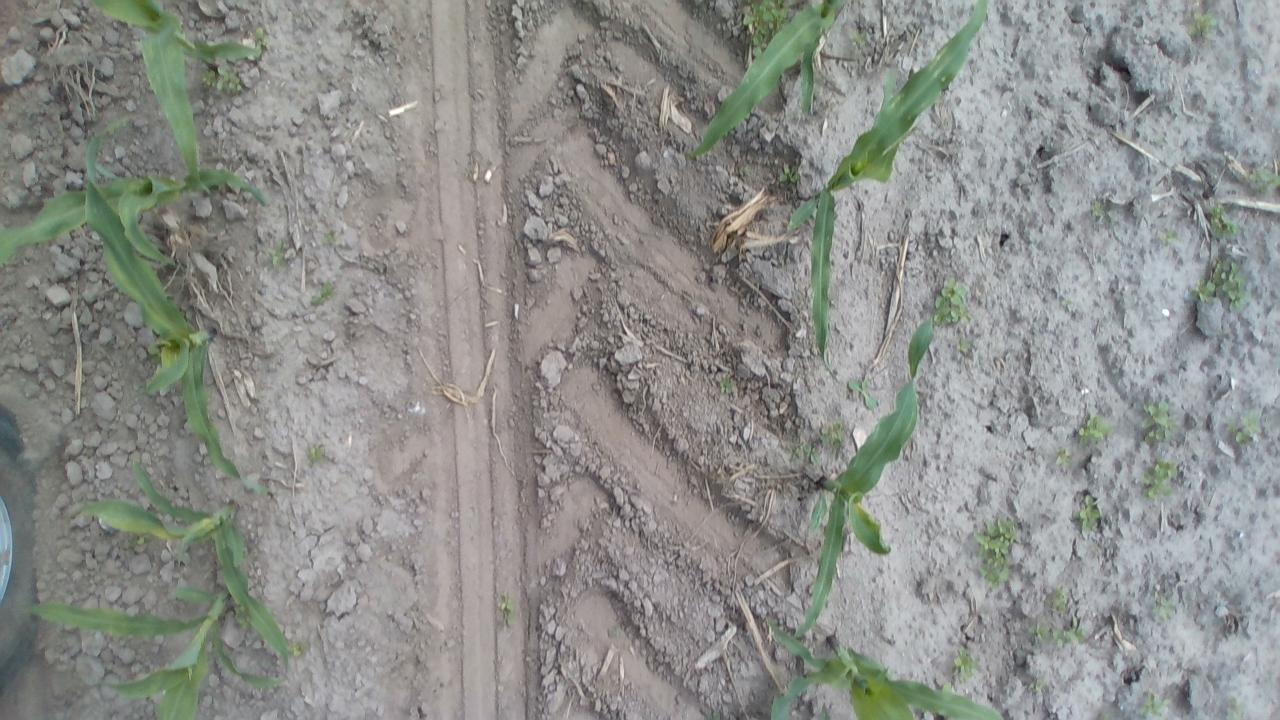Maize: (777, 0, 996, 375), (70, 105, 282, 492), (769, 302, 943, 651), (60, 449, 297, 672), (15, 578, 294, 718), (80, 0, 264, 201), (0, 141, 277, 270), (684, 0, 858, 164), (762, 628, 1012, 719)
Weeds: (1030, 584, 1088, 647), (973, 512, 1021, 588), (1192, 254, 1250, 310), (733, 1, 795, 52), (1136, 396, 1180, 445), (930, 277, 972, 328), (197, 62, 251, 100), (1138, 455, 1180, 502), (1200, 200, 1240, 243), (813, 417, 851, 459), (844, 373, 883, 413), (1070, 493, 1106, 536), (1074, 412, 1116, 448), (948, 646, 984, 686), (1228, 408, 1264, 448), (1186, 8, 1222, 41), (264, 235, 296, 271), (1088, 192, 1118, 227), (789, 437, 823, 466), (1139, 688, 1171, 718), (1248, 164, 1277, 197), (1150, 592, 1178, 624), (496, 591, 518, 630), (775, 160, 803, 190), (309, 280, 336, 310), (1156, 224, 1184, 252), (1052, 444, 1076, 472), (305, 441, 331, 466), (1220, 695, 1247, 719), (124, 532, 152, 554), (952, 335, 978, 358), (250, 26, 272, 51), (319, 226, 342, 249), (849, 26, 870, 49), (1026, 674, 1050, 694), (716, 374, 736, 395), (287, 638, 306, 660), (604, 624, 622, 644)
